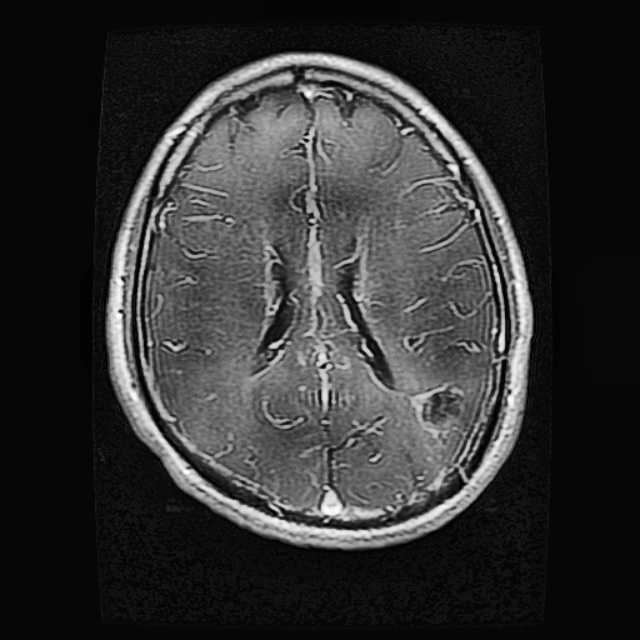Glioma: (412, 379, 465, 437)
